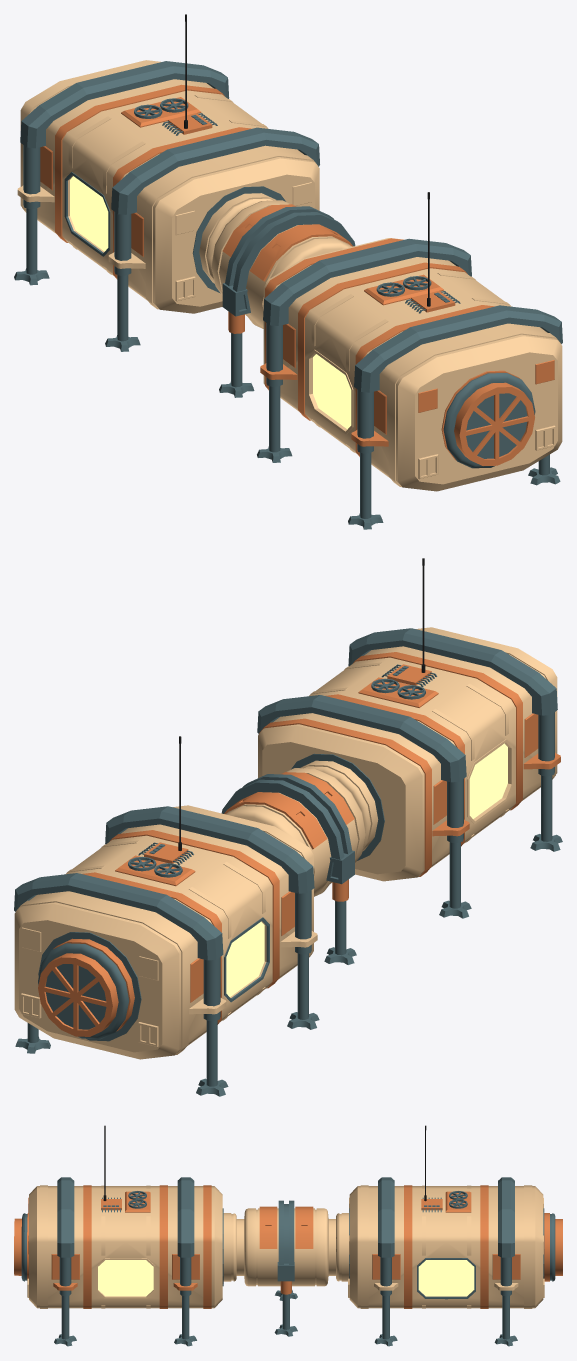
File: colony_hab_row.fbx
3 views of the same model, one above another, from view 1: azimuth 30°, elevation 25°; view 2: azimuth 150°, elevation 25°; view 3: azimuth 270°, elevation 25° (orthographic). The views are drawn at different scales.
Parts seen in each view (by area): view 1: HabRow.ME.Cube.076, HabRow.MD.Cube.060, HabRow.ME.Cube.077, HabRow.MD.Cube.061, HabRow.ME.Cylinder.063, HabRow.T_MD_ME.Cylinder.058, HabRow.T_MD_ME.Cylinder.061, HabRow.ME.Cylinder.067, HabRow.T_MD_ME.Cylinder.059, HabRow.ME.Cube.078, HabRow.MD.Cube.064, HabRow.MD.Cylinder.056 (+20 smaller); view 2: HabRow.MD.Cube.060, HabRow.ME.Cube.076, HabRow.MD.Cube.061, HabRow.ME.Cube.077, HabRow.door0.Cylinder.008, HabRow.T_MD_ME.Cylinder.058, HabRow.T_MD_ME.Cylinder.061, HabRow.MD.Cylinder.056, HabRow.T_MD_ME.Cylinder.059, HabRow.MD.Cube.063, HabRow.ME.Cube.079, HabRow.MD.Cube.065 (+20 smaller); view 3: HabRow.MD.Cube.060, HabRow.ME.Cube.076, HabRow.T_MD_ME.Cylinder.058, HabRow.ME.Cube.077, HabRow.MD.Cube.061, HabRow.T_MD_ME.Cylinder.059, HabRow.door0.Cylinder.008, HabRow.MD.Cube.062, HabRow.MD.Cube.063, HabRow.MD.Cube.064, HabRow.MD.Cube.065, HabRow.ME.Cube.079 (+21 smaller).
Part boxes in pixels (x1,y1,x2,y2): HabRow.ME.Cube.076: (263, 238, 562, 491); HabRow.MD.Cube.060: (20, 60, 319, 313); HabRow.ME.Cube.077: (263, 238, 562, 392); HabRow.MD.Cube.061: (20, 61, 319, 214); HabRow.ME.Cylinder.063: (441, 370, 535, 468); HabRow.T_MD_ME.Cylinder.058: (199, 193, 351, 328); HabRow.T_MD_ME.Cylinder.061: (225, 206, 355, 291); HabRow.ME.Cylinder.067: (348, 389, 560, 529); HabRow.T_MD_ME.Cylinder.059: (222, 204, 352, 281); HabRow.ME.Cube.078: (388, 329, 560, 486); HabRow.MD.Cube.064: (55, 84, 224, 242); HabRow.MD.Cylinder.056: (14, 145, 49, 285); HabRow.MD.Cube.060: (14, 805, 313, 1059); HabRow.ME.Cube.076: (258, 627, 557, 881); HabRow.MD.Cube.061: (14, 806, 314, 960); HabRow.ME.Cube.077: (257, 628, 557, 782); HabRow.door0.Cylinder.008: (38, 938, 134, 1039); HabRow.T_MD_ME.Cylinder.058: (225, 760, 378, 896); HabRow.T_MD_ME.Cylinder.061: (221, 774, 352, 859); HabRow.MD.Cylinder.056: (15, 957, 228, 1096); HabRow.T_MD_ME.Cylinder.059: (224, 772, 354, 849); HabRow.MD.Cube.063: (15, 896, 188, 1054); HabRow.ME.Cube.079: (259, 718, 431, 876); HabRow.MD.Cube.065: (109, 830, 279, 988); HabRow.MD.Cube.060: (349, 1186, 543, 1308); HabRow.ME.Cube.076: (29, 1186, 222, 1308); HabRow.T_MD_ME.Cylinder.058: (223, 1208, 348, 1286); HabRow.ME.Cube.077: (57, 1177, 194, 1257); HabRow.MD.Cube.061: (378, 1177, 514, 1257); HabRow.T_MD_ME.Cylinder.059: (259, 1206, 313, 1248); HabRow.door0.Cylinder.008: (544, 1213, 562, 1281); HabRow.MD.Cube.062: (360, 1185, 368, 1308); HabRow.MD.Cube.063: (524, 1185, 532, 1308); HabRow.MD.Cube.064: (480, 1185, 488, 1308); HabRow.MD.Cube.065: (404, 1185, 412, 1308); HabRow.ME.Cube.079: (203, 1185, 211, 1308).
Bounding box in the file's own units: 820 × 1067 × 2820.
